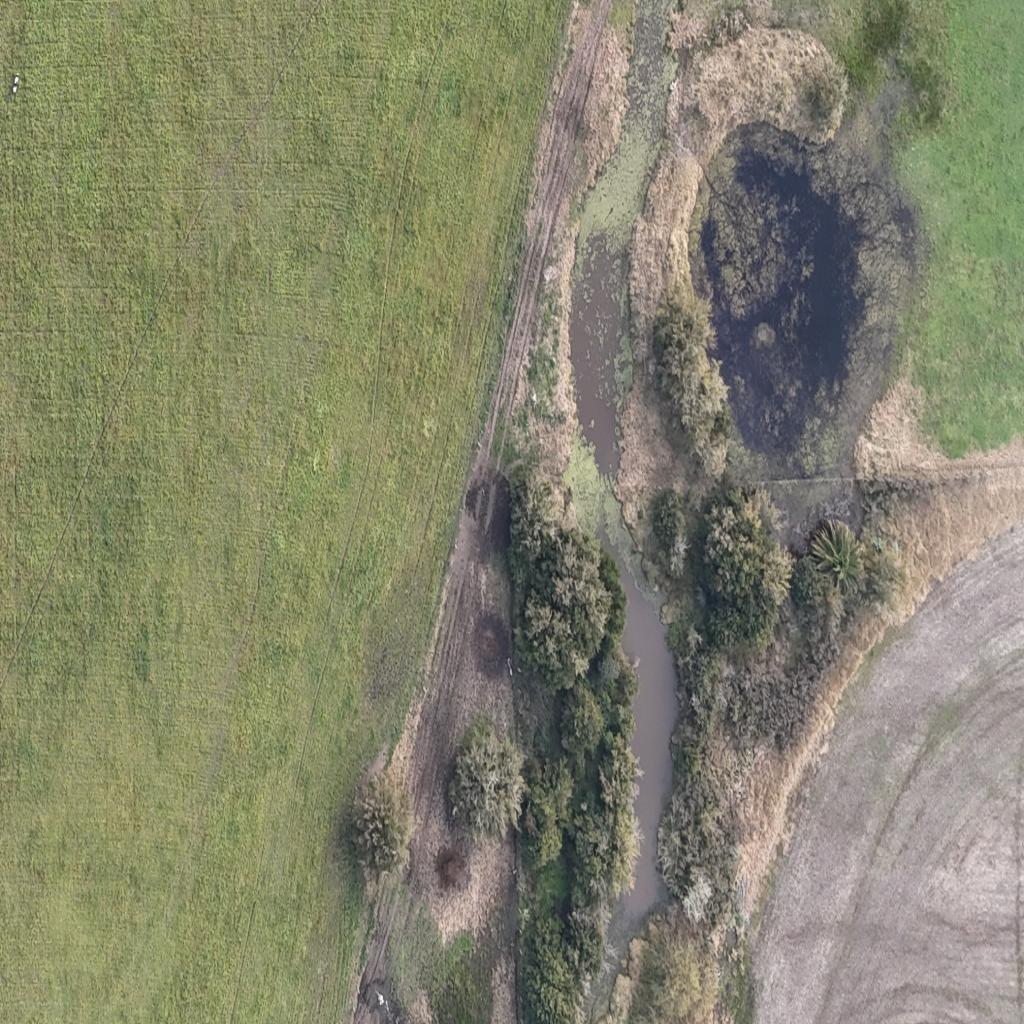cow: (10, 72, 23, 98)
